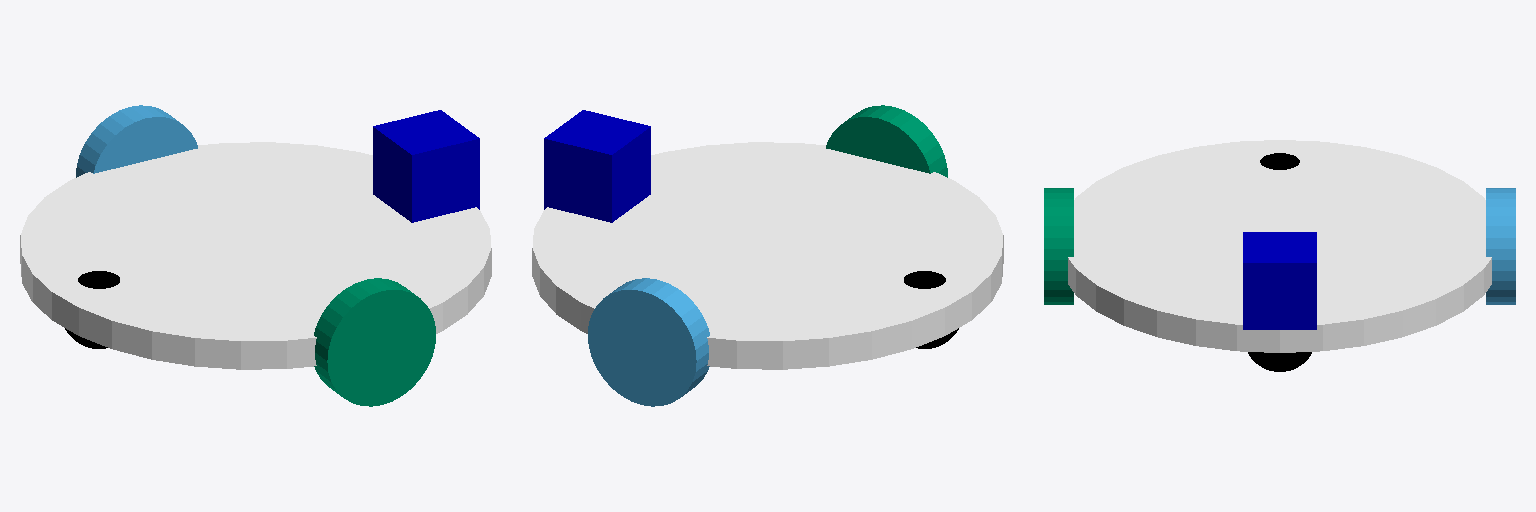
robot.urdf — simple_robot:
<?xml version="1.0"?>
<robot name="simple_robot" xmlns:xacro="http://www.ros.org/wiki/xacro">
  <material name="Black">
    <color rgba="0.0 0.0 0.0 1.0"/>
  </material>
  <material name="Red">
    <color rgba="0.8 0.0 0.0 1.0"/>
  </material>
  <material name="White">
    <color rgba="1.0 1.0 1.0 1.0"/>
  </material>
  <material name="Blue">
    <color rgba="0.0 0.0 0.8 1.0"/>
  </material>
  <!--    <link name="base_footprint">
       <inertial>
      <mass value="0.0001"/>
      <origin xyz="0 0 0"/>
      <inertia ixx="0.0001" ixy="0.0" ixz="0.0" iyy="0.0001" iyz="0.0" izz="0.0001"/>
    </inertial>
     <visual>
      <origin rpy="0 0 0" xyz="0 0 0"/>
      <geometry>
        <box size="0.001 0.001 0.001"/>
      </geometry>
    </visual> 
  </link>
    <gazebo reference="base_footprint">
    <turnGravityOff>false</turnGravityOff>
  </gazebo> 
  <joint name="base_footprint_joint" type="fixed">
    <origin rpy="0 0 0" xyz="0 0 0.04"/>
    <parent link="base_footprint"/>
    <child link="base_link"/>
  </joint>
-->
<link name="base_link">
    <inertial>
      <mass value="5"/>
      <origin xyz="0 0 0"/>
      <!--The 3x3 rotational inertia matrix. -->
      <inertia ixx="0.0282916666667" ixy="0" ixz="0" iyy="0.0282916666667" iyz="0" izz="0.05625"/>
    </inertial>
    <visual>
      <origin rpy="0 0 0" xyz="0 0 0"/>
      <geometry>
        <cylinder length="0.02" radius="0.15"/>
      </geometry>
      <material name="White"/>
    </visual>
    <collision>
      <origin rpy="0 0 0 " xyz="0 0 0"/>
      <geometry>
        <cylinder length="0.02" radius="0.15"/>
      </geometry>
    </collision>
  </link>
  <gazebo reference="base_link">
    <material>Gazebo/White</material>
    <turnGravityOff>false</turnGravityOff>
  </gazebo>
  <!--fb : front, back ; lr: left, right -->
  <link name="front_right_wheel">
    <visual>
      <origin rpy="1.57079632679 0  0 " xyz="0 0 0"/>
      <geometry>
        <cylinder length="0.02" radius="0.04"/>
      </geometry>
      <material name="DarkGray"/>
    </visual>
    <collision>
      <origin rpy="1.57079632679 0 0 " xyz="0 0 0"/>
      <geometry>
        <cylinder length="0.02" radius="0.04"/>
      </geometry>
    </collision>
    <inertial>
      <mass value="2.5"/>
      <origin xyz="0 0 0"/>
      <inertia ixx="0.00108333333333" ixy="0" ixz="0" iyy="0.00108333333333" iyz="0" izz="0.002"/>
    </inertial>
  </link>
  
  <joint name="front_right_wheel_joint" type="continuous">
    <parent link="base_link"/>
    <child link="front_right_wheel"/>
    <origin rpy="0 0 0" xyz="0.0 0.15 0.0"/>
    <axis rpy="0  0" xyz="0 1 0"/>
    <limit effort="100" velocity="100"/>
    <joint_properties damping="0.0" friction="0.0"/>
  </joint>
  <!-- Transmission is important to link the joints and the controller -->
    <transmission name="front_right_wheel_joint_trans">
    <type>transmission_interface/SimpleTransmission</type>
    <joint name="front_right_wheel_joint"/>
    <actuator name="front_right_wheel_joint_motor">
      <hardwareInterface>EffortJointInterface</hardwareInterface>
      <mechanicalReduction>1</mechanicalReduction>
    </actuator>
  </transmission> 
  <!--fb : front, back ; lr: left, right -->
  <link name="front_left_wheel">
    <visual>
      <origin rpy="1.57079632679 0  0 " xyz="0 0 0"/>
      <geometry>
        <cylinder length="0.02" radius="0.04"/>
      </geometry>
      <material name="DarkGray"/>
    </visual>
    <collision>
      <origin rpy="1.57079632679 0 0 " xyz="0 0 0"/>
      <geometry>
        <cylinder length="0.02" radius="0.04"/>
      </geometry>
    </collision>
    <inertial>
      <mass value="2.5"/>
      <origin xyz="0 0 0"/>
      <inertia ixx="0.00108333333333" ixy="0" ixz="0" iyy="0.00108333333333" iyz="0" izz="0.002"/>
    </inertial>
  </link>
    <joint name="front_left_wheel_joint" type="continuous">
    <parent link="base_link"/>
    <child link="front_left_wheel"/>
    <origin rpy="0 0 0" xyz="0.0 -0.15 0.0"/>
    <axis rpy="0  0" xyz="0 1 0"/>
    <limit effort="100" velocity="100"/>
    <joint_properties damping="0.0" friction="0.0"/>
  </joint>
  <!-- Transmission is important to link the joints and the controller -->
  <transmission name="front_left_wheel_joint_trans">
    <type>transmission_interface/SimpleTransmission</type>
    <joint name="front_left_wheel_joint"/>
    <actuator name="front_left_wheel_joint_motor">
      <hardwareInterface>EffortJointInterface</hardwareInterface>
      <mechanicalReduction>1</mechanicalReduction>
    </actuator>
  </transmission>    
  <!--Caster front  -->
  <link name="caster_front_link">
    <visual>
      <origin rpy="1.57079632679 0 0" xyz="0 0.02 0"/>
      <geometry>
        <sphere radius="0.025"/>
      </geometry>
      <material name="Black"/>
    </visual>
    <collision>
      <geometry>
        <sphere radius="0.025"/>
      </geometry>
      <origin rpy="1.57079632679 0 0" xyz="0 0.02 0"/>
    </collision>
    <inertial>
      <mass value="0.5"/>
      <origin xyz="0 0 0"/>
      <inertia ixx="0.001" ixy="0.0" ixz="0.0" iyy="0.001" iyz="0.0" izz="0.001"/>
    </inertial>
  </link>
  <joint name="caster_front_joint" type="fixed">
    <parent link="base_link"/>
    <child link="caster_front_link"/>
    <origin rpy="-1.57079632679 0 0" xyz="0.115 0.0 0.007"/>
  </joint>
  \  <!--Caster back  -->
  <link name="caster_back_link">
    <visual>
      <origin rpy="1.57079632679 0 0" xyz="0.02 0.02 0 "/>
      <geometry>
        <sphere radius="0.025"/>
      </geometry>
      <material name="Black"/>
    </visual>
    <collision>
      <geometry>
        <sphere radius="0.025"/>
      </geometry>
      <origin rpy="1.57079632679 0 0" xyz="0 0.02 0 "/>
    </collision>
    <inertial>
      <mass value="0.5"/>
      <origin xyz="0 0 0"/>
      <inertia ixx="0.001" ixy="0.0" ixz="0.0" iyy="0.001" iyz="0.0" izz="0.001"/>
    </inertial>
  </link>
  <joint name="caster_back_joint" type="fixed">
    <parent link="base_link"/>
    <child link="caster_back_link"/>
    <origin rpy="-1.57079632679 0 0" xyz="-0.135 0.0 0.009"/>
  </joint>
    <!-- SENSORS -->
  <!-- hokuyo -->
  <link name="hokuyo_link">
    <visual>
      <origin rpy="0 0 0" xyz="0 0 0"/>
      <geometry>
        <box size="0.05 0.05 0.05"/>
      </geometry>
      <material name="Blue"/>
    </visual>
  </link>
  <joint name="hokuyo_joint" type="fixed">
    <origin rpy="0 0 0" xyz="0.125 0 0.0325"/>
    <parent link="base_link"/>
    <child link="hokuyo_link"/>
  </joint>
  <gazebo reference="hokuyo_link">
    <material>Gazebo/Blue</material>
    <turnGravityOff>false</turnGravityOff>
    <sensor name="head_hokuyo_sensor" type="ray">
      <pose>0.025 0 0 0 0 0</pose>
      <visualize>false</visualize>
      <update_rate>40</update_rate>
      <ray>
        <scan>
          <horizontal>
            <samples>720</samples>
            <resolution>1</resolution>
            <min_angle>-1.570796</min_angle>
            <max_angle>1.570796</max_angle>
          </horizontal>
        </scan>
        <range>
          <min>0.10</min>
          <max>10.0</max>
          <resolution>0.001</resolution>
        </range>
      </ray>
      <plugin filename="libgazebo_ros_laser.so" name="gazebo_ros_head_hokuyo_controller">
        <topicName>/scan</topicName>
        <frameName>hokuyo_link</frameName>
      </plugin>
    </sensor>
  </gazebo>
  <!-- Differential drive controller  -->
  <gazebo>
    <plugin filename="libgazebo_ros_diff_drive.so" name="differential_drive_controller_front">
      <rosDebugLevel>Debug</rosDebugLevel>
      <publishWheelTF>True</publishWheelTF>
      <publishTf>1</publishTf>
      <publishWheelJointState>true</publishWheelJointState>
      <alwaysOn>true</alwaysOn>
      <updateRate>100.0</updateRate>
        <leftJoint>front_left_wheel_joint</leftJoint>
      <rightJoint>front_right_wheel_joint</rightJoint>  
      <wheelSeparation>0.3</wheelSeparation>
      <wheelDiameter>0.08</wheelDiameter>
      <broadcastTF>1</broadcastTF>
      <wheelTorque>30</wheelTorque>
      <wheelAcceleration>1.8</wheelAcceleration>
      <commandTopic>cmd_vel</commandTopic>
      <odometryFrame>odom</odometryFrame>
      <odometryTopic>odom</odometryTopic>
      <robotBaseFrame>base_link</robotBaseFrame>
    </plugin>
  </gazebo>
  
</robot>

--- Render facts (derived) ---
3 views of the same robot in one strip: view 1: azimuth 30°, elevation 25°; view 2: azimuth 150°, elevation 25°; view 3: azimuth 270°, elevation 25° (orthographic).
Robot: simple_robot — 6 links, 5 joints (2 continuous, 3 fixed); root link base_link; default pose: every joint at zero.
Links seen in each view (by area): view 1: base_link, front_left_wheel, hokuyo_link, front_right_wheel, caster_back_link; view 2: base_link, front_right_wheel, hokuyo_link, front_left_wheel, caster_back_link; view 3: base_link, hokuyo_link, front_right_wheel, front_left_wheel, caster_front_link, caster_back_link.
Boxes of the visible links, bbox=[...] form: base_link: bbox=[20, 142, 491, 369]; front_left_wheel: bbox=[314, 278, 435, 406]; hokuyo_link: bbox=[373, 110, 479, 222]; front_right_wheel: bbox=[76, 105, 197, 177]; caster_back_link: bbox=[65, 271, 119, 348]; base_link: bbox=[532, 142, 1003, 369]; front_right_wheel: bbox=[588, 278, 709, 406]; hokuyo_link: bbox=[544, 110, 650, 222]; front_left_wheel: bbox=[826, 105, 947, 177]; caster_back_link: bbox=[904, 271, 958, 348]; base_link: bbox=[1068, 140, 1491, 352]; hokuyo_link: bbox=[1243, 232, 1316, 329]; front_right_wheel: bbox=[1486, 188, 1515, 304]; front_left_wheel: bbox=[1044, 188, 1073, 304]; caster_front_link: bbox=[1248, 352, 1311, 371]; caster_back_link: bbox=[1260, 153, 1299, 169].
Bounding box of the posed robot: 0.3 × 0.32 × 0.0975 m (x, y, z).
Geometry: primitives only (box / cylinder / sphere), no mesh files.
